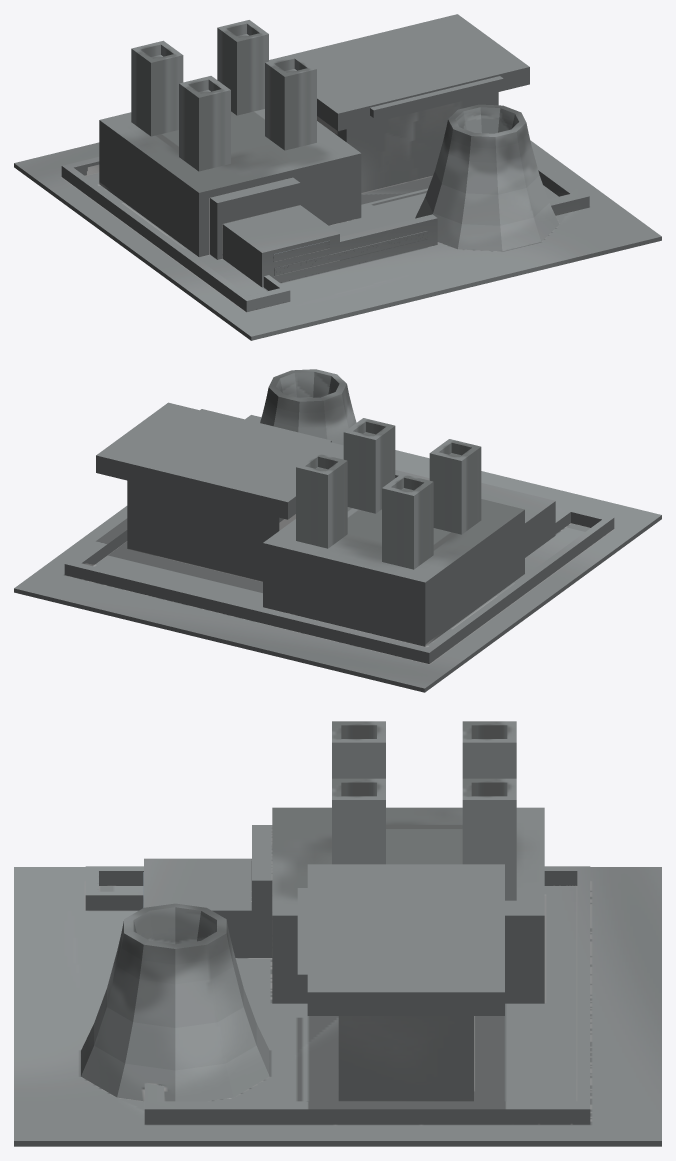
The model's file is polluant_factory.fbx.
The picture shows the model from 3 angles, top to bottom: view 1: azimuth 30°, elevation 25°; view 2: azimuth 150°, elevation 25°; view 3: azimuth 270°, elevation 25°; orthographic projection. The views are drawn at different scales.
Parts seen in each view (by area): view 1: pollutant_factory, ground, smoke_location.002, smoke_location.001; view 2: pollutant_factory, ground, smoke_location.002, smoke_location.001; view 3: pollutant_factory, ground, smoke_location.001, smoke_location.002.
Part boxes in pixels (bbox=[...]): pollutant_factory: bbox=[61, 14, 589, 312]; ground: bbox=[14, 140, 661, 340]; smoke_location.002: bbox=[131, 20, 316, 171]; smoke_location.001: bbox=[415, 104, 559, 251]; pollutant_factory: bbox=[64, 402, 614, 663]; ground: bbox=[14, 415, 661, 692]; smoke_location.002: bbox=[296, 418, 481, 569]; smoke_location.001: bbox=[260, 369, 356, 445]; pollutant_factory: bbox=[85, 807, 590, 1124]; ground: bbox=[14, 867, 661, 1146]; smoke_location.001: bbox=[81, 903, 269, 1101]; smoke_location.002: bbox=[332, 721, 516, 900].
Size of the model in its own units: 52 by 52 by 17.19.
1 material, 1 textured.
